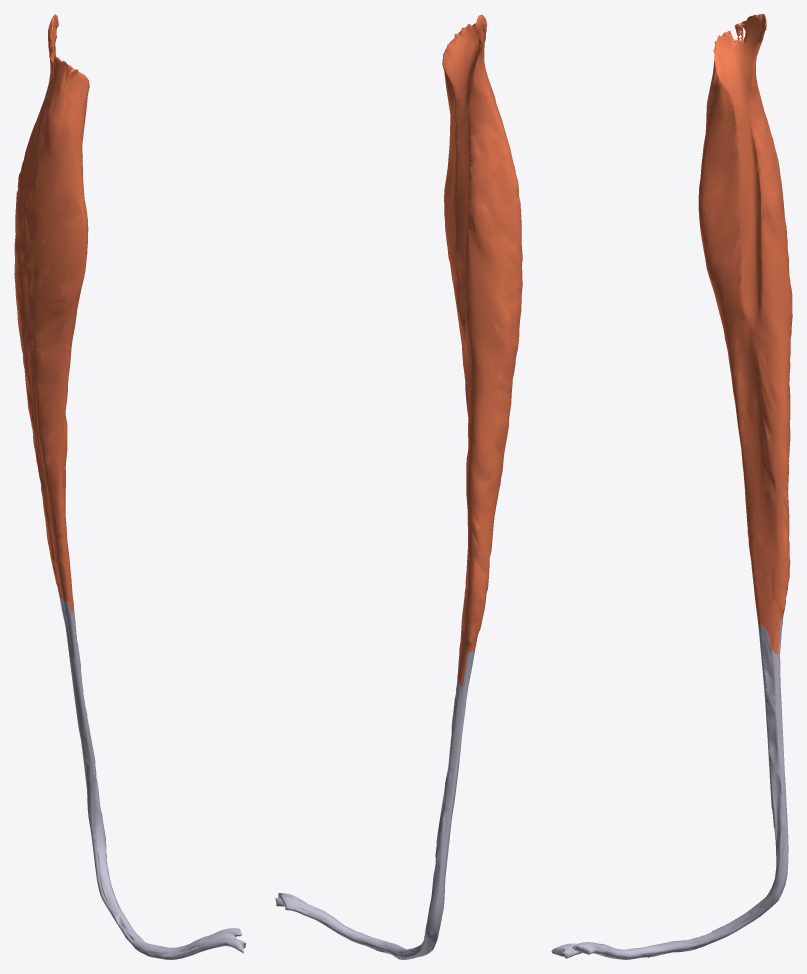
Rendered from Fibularis_longus.r_Generated_Mesh_From_X3D.857.glb.
The picture shows the model from 3 angles, left to right: view 1: azimuth 30°, elevation 25°; view 2: azimuth 210°, elevation 25°; view 3: azimuth 270°, elevation 25°; orthographic projection. The views are drawn at different scales.
Visible parts, largest first — view 1: Fibularis_longus.r_Generated_Mesh_From_X3D.857; view 2: Fibularis_longus.r_Generated_Mesh_From_X3D.857; view 3: Fibularis_longus.r_Generated_Mesh_From_X3D.857.
Boxes of the visible parts, <box> form: Fibularis_longus.r_Generated_Mesh_From_X3D.857: <box>14,14,246,959</box>; Fibularis_longus.r_Generated_Mesh_From_X3D.857: <box>275,14,522,959</box>; Fibularis_longus.r_Generated_Mesh_From_X3D.857: <box>551,14,792,959</box>.
Bounding box in the file's own units: 0.0588 × 0.3792 × 0.0897.
